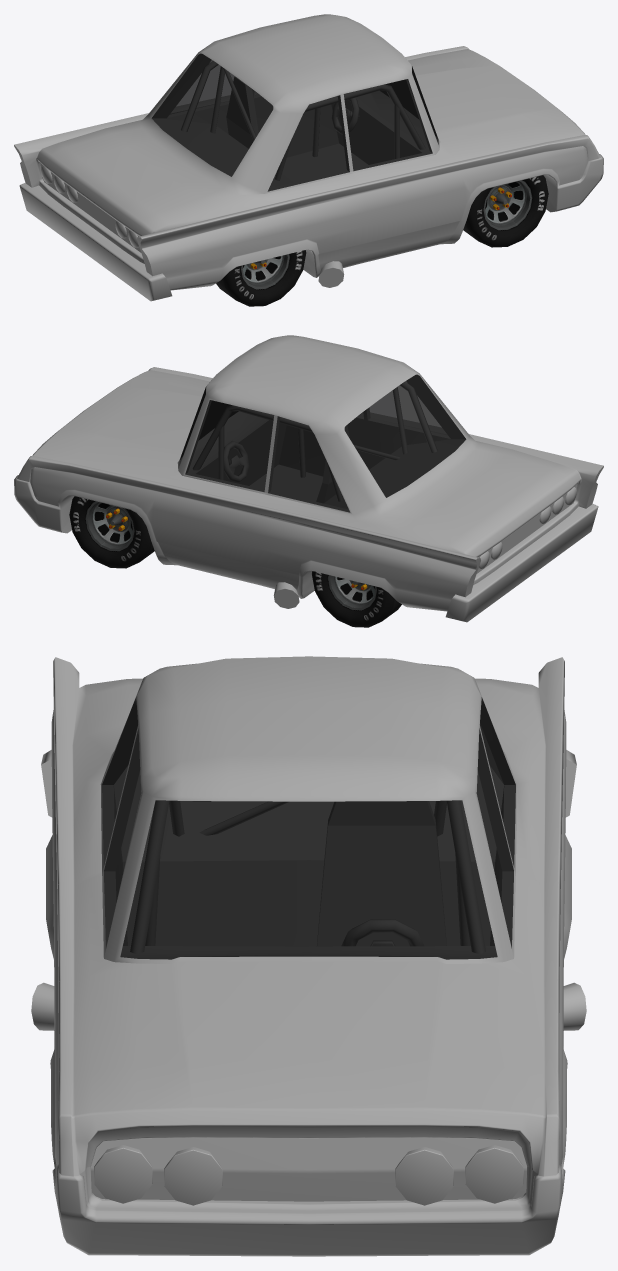
The picture shows the model from 3 angles, top to bottom: view 1: azimuth 30°, elevation 25°; view 2: azimuth 150°, elevation 25°; view 3: azimuth 270°, elevation 25°; orthographic projection. The views are drawn at different scales.
Parts seen in each view (by area): view 1: CarBody, Glass, TireFrontR, TireRearR; view 2: CarBody, Glass, TireFrontL, TireRearL; view 3: CarBody, Glass.
Part boxes in pixels (x1,y1,x2,y2): CarBody: [14, 14, 603, 301]; Glass: [151, 53, 438, 191]; TireFrontR: [463, 175, 548, 247]; TireRearR: [216, 250, 306, 306]; CarBody: [14, 335, 603, 622]; Glass: [179, 374, 466, 512]; TireFrontL: [69, 496, 154, 568]; TireRearL: [312, 571, 401, 627]; CarBody: [31, 656, 586, 1256]; Glass: [102, 697, 515, 959].
Size of the model in its own units: 268 by 105 by 138.
